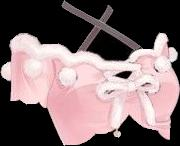Bodice: (46, 0, 179, 144)
Neckline: (46, 33, 162, 61), (64, 0, 108, 20)
Sleeve: (9, 33, 55, 107)
Sleeveline: (46, 45, 57, 90)
Waistline: (63, 114, 169, 145)
